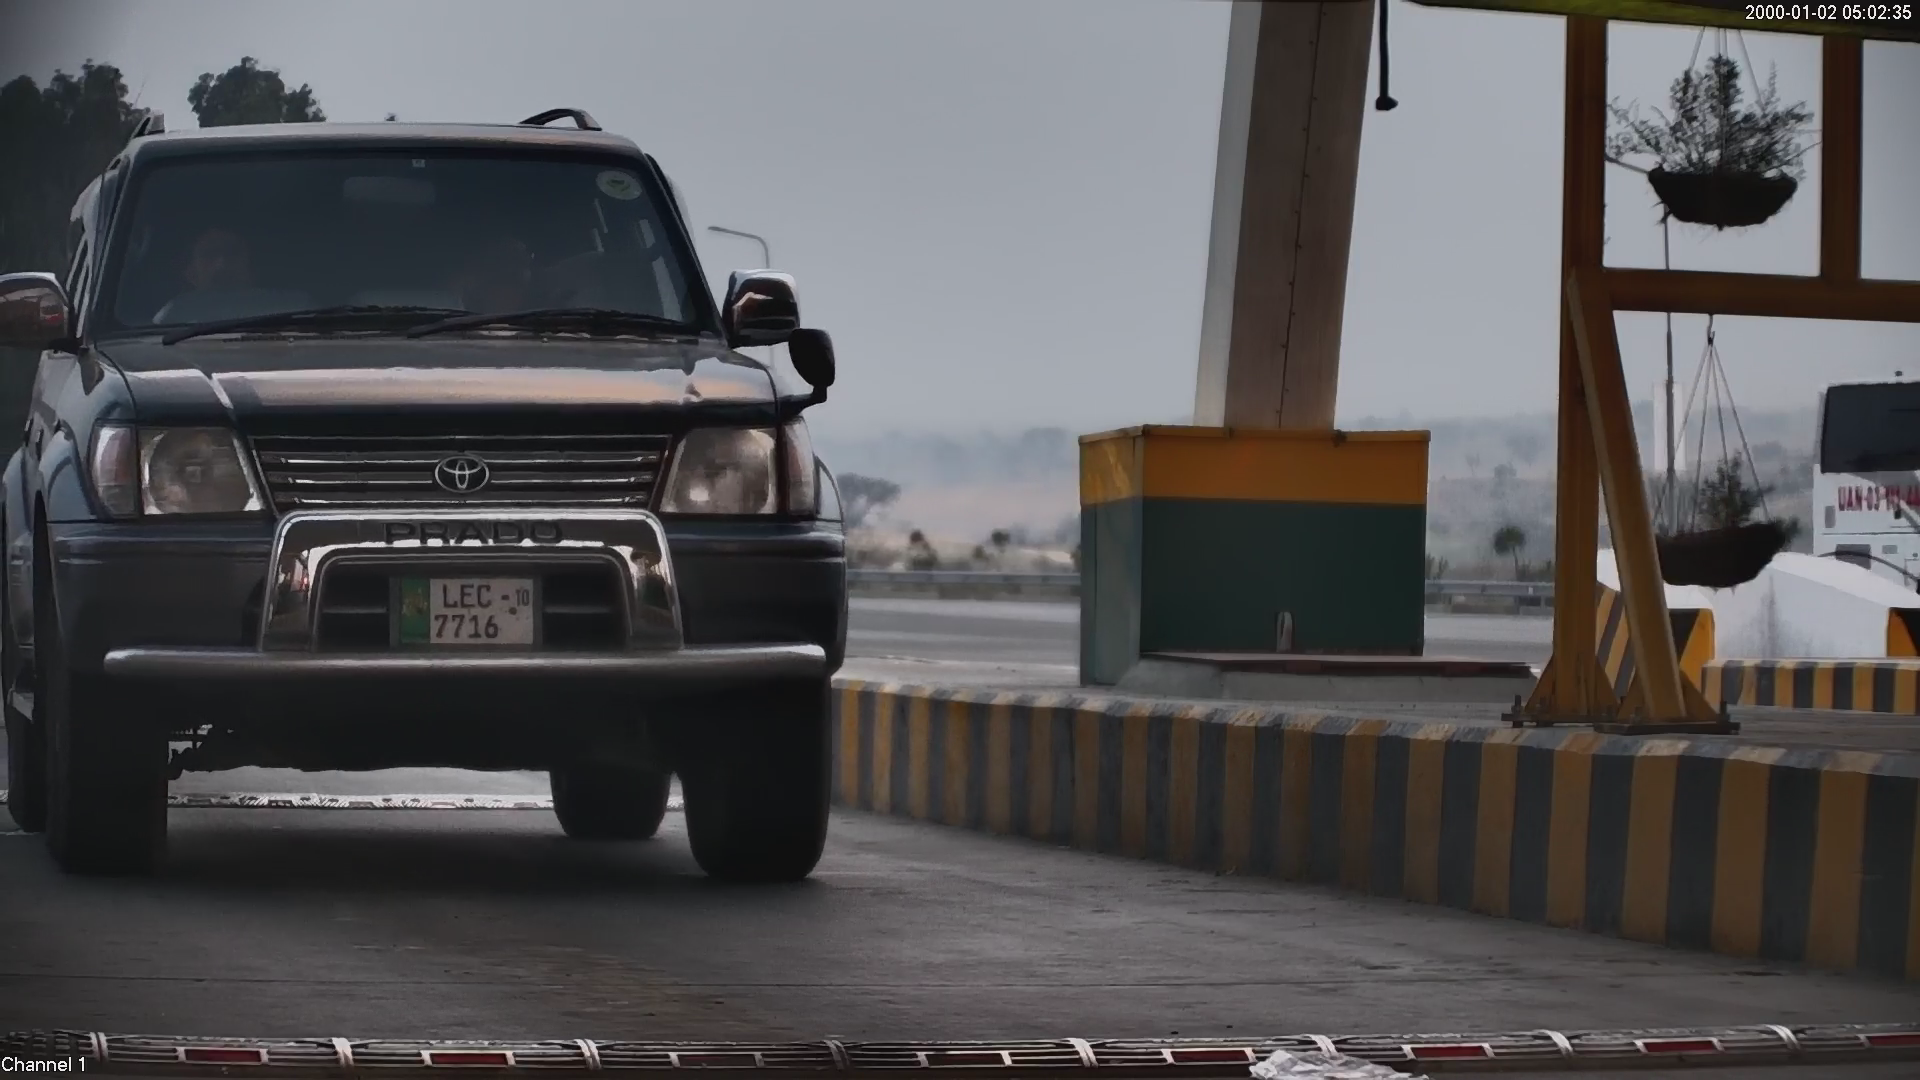Number_Plate: (380, 562, 552, 665)
